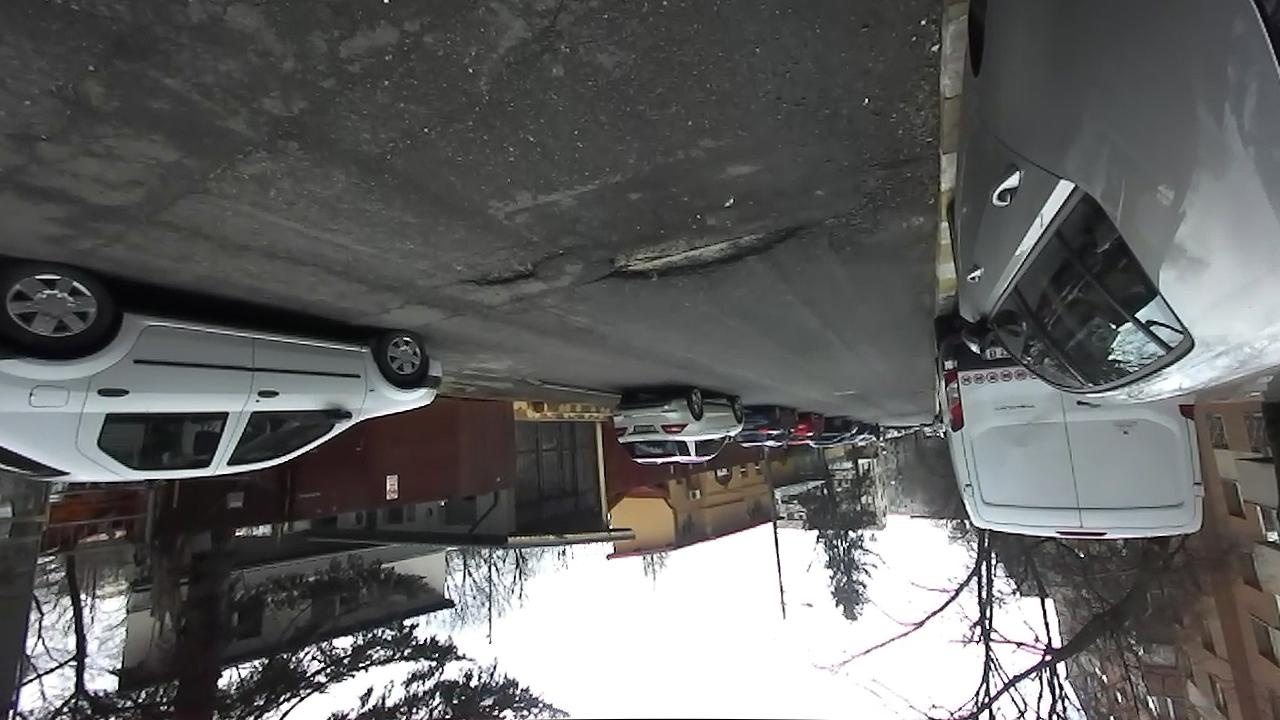pothole: (583, 217, 808, 288), (454, 249, 567, 290)
